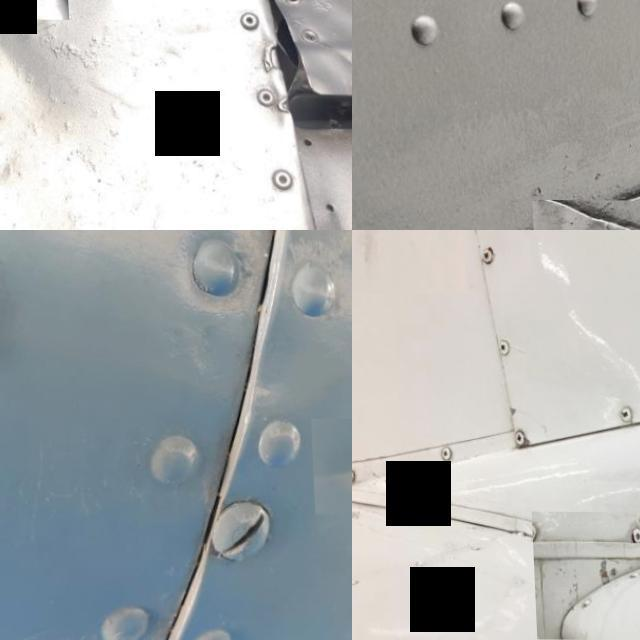Crack: (528, 511, 640, 640), (352, 230, 466, 293)
Dent: (307, 417, 352, 514)
Missing_Fastener: (529, 199, 640, 230)
